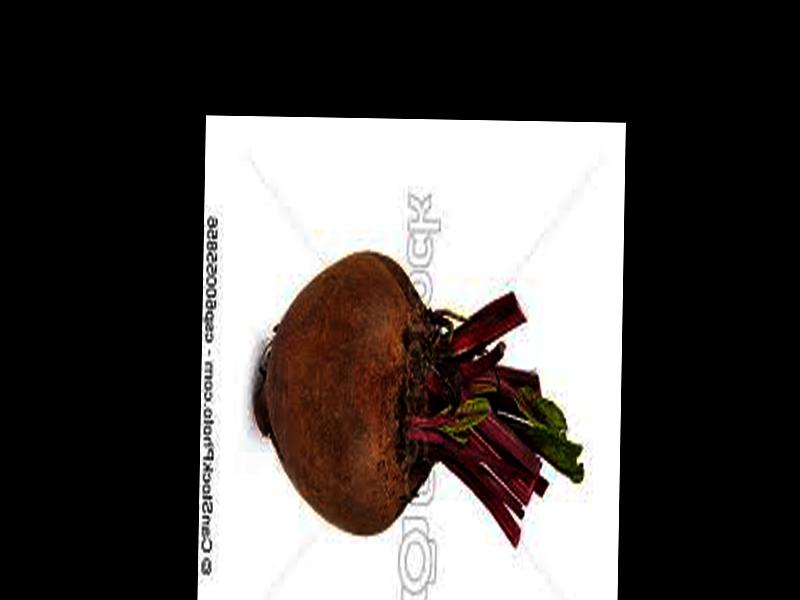Beet: (253, 247, 586, 547)
